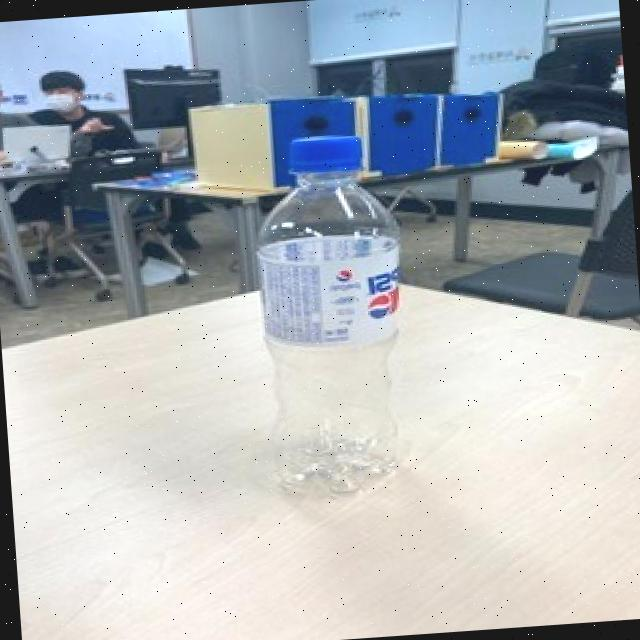bottle: (242, 120, 424, 524)
cap: (282, 128, 370, 182)
label: (242, 234, 423, 354)
